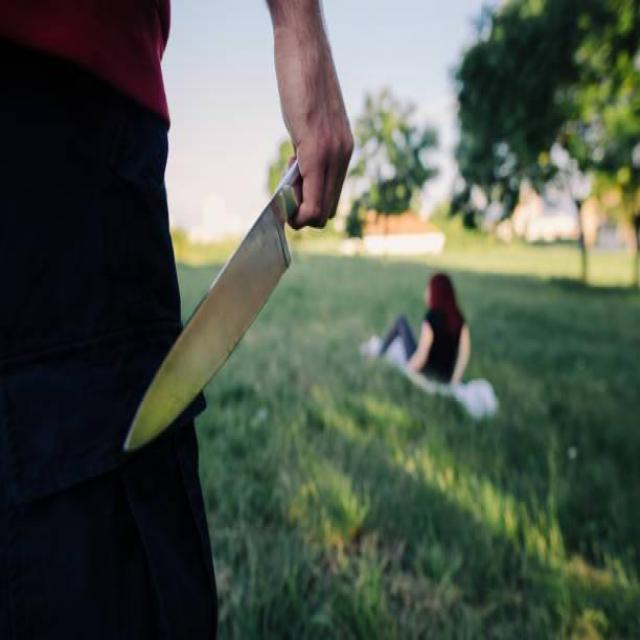faca: (94, 85, 361, 468)
